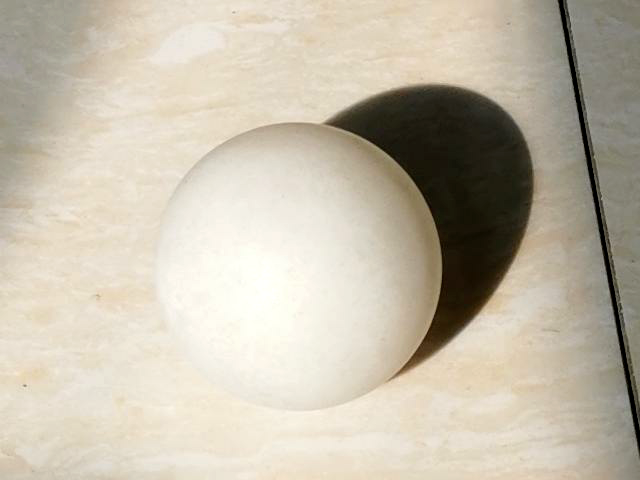ball: (154, 125, 442, 408)
